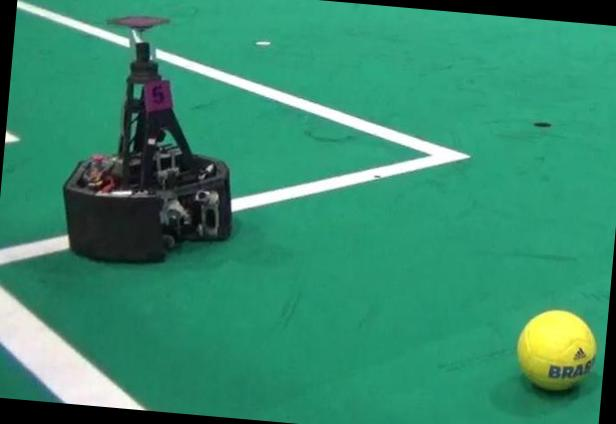ball: (517, 310, 596, 390)
robot: (63, 16, 231, 262)
